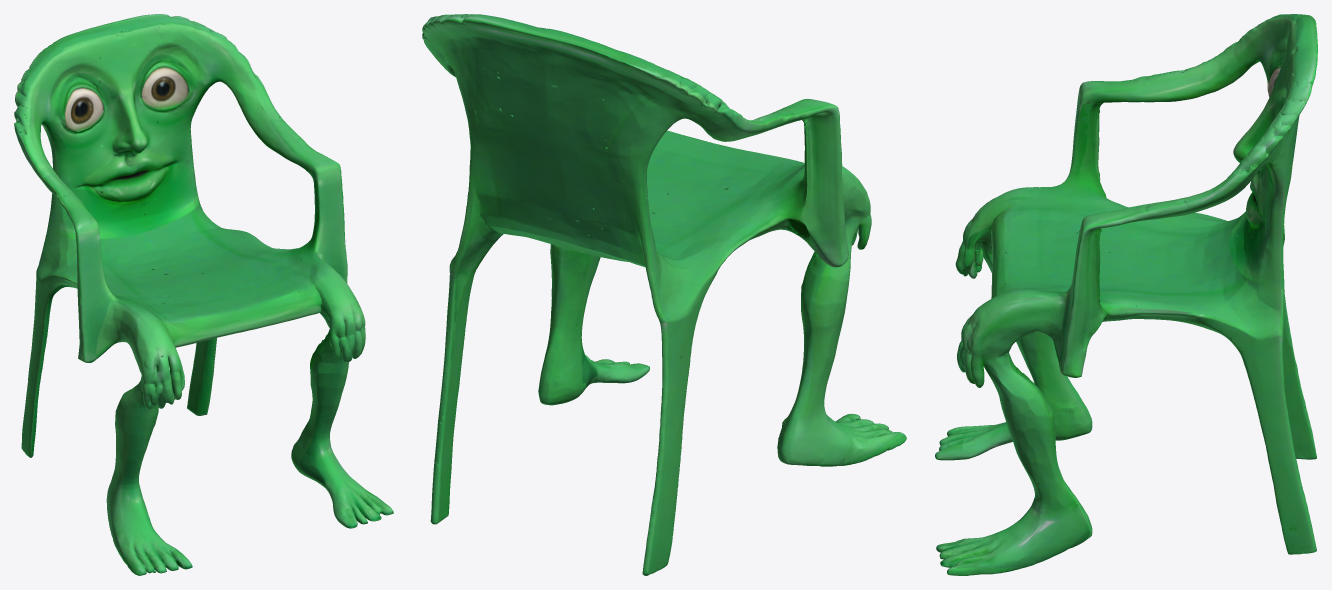
The model's file is karkerkar_kurkur_brainrot_character.glb.
The picture shows the model from 3 angles, left to right: view 1: azimuth 30°, elevation 25°; view 2: azimuth 150°, elevation 25°; view 3: azimuth 270°, elevation 25°; orthographic projection. The views are drawn at different scales.
Visible parts, largest first — view 1: Mesh_0_Material.001_0 (×3); view 2: Mesh_0_Material.001_0 (×3); view 3: Mesh_0_Material.001_0 (×3).
Part boxes in pixels (left/top/right/bottom): Mesh_0_Material.001_0 (×3): left=14, top=14, right=393, bottom=575; Mesh_0_Material.001_0 (×3): left=422, top=14, right=906, bottom=575; Mesh_0_Material.001_0 (×3): left=935, top=14, right=1317, bottom=575.
Bounding box in the file's own units: 1.4 × 2.01 × 1.51.
1 material, 1 textured.
